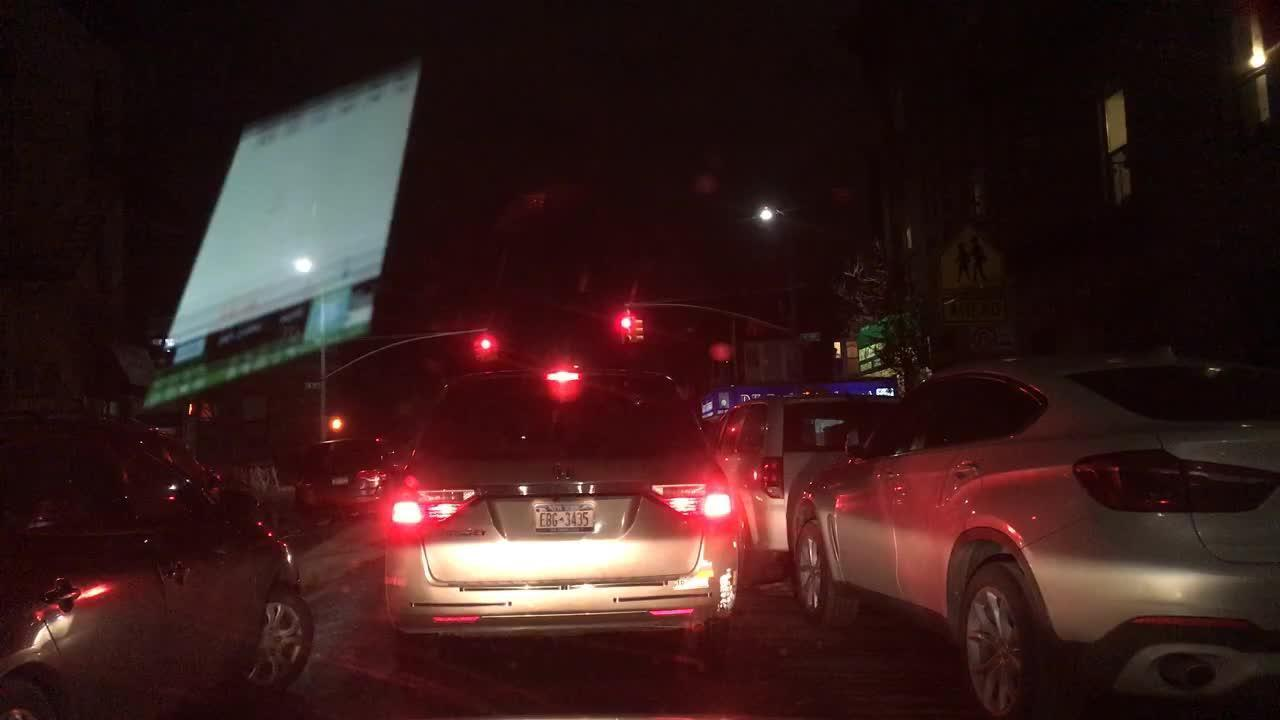Honda: (548, 456, 585, 487)
